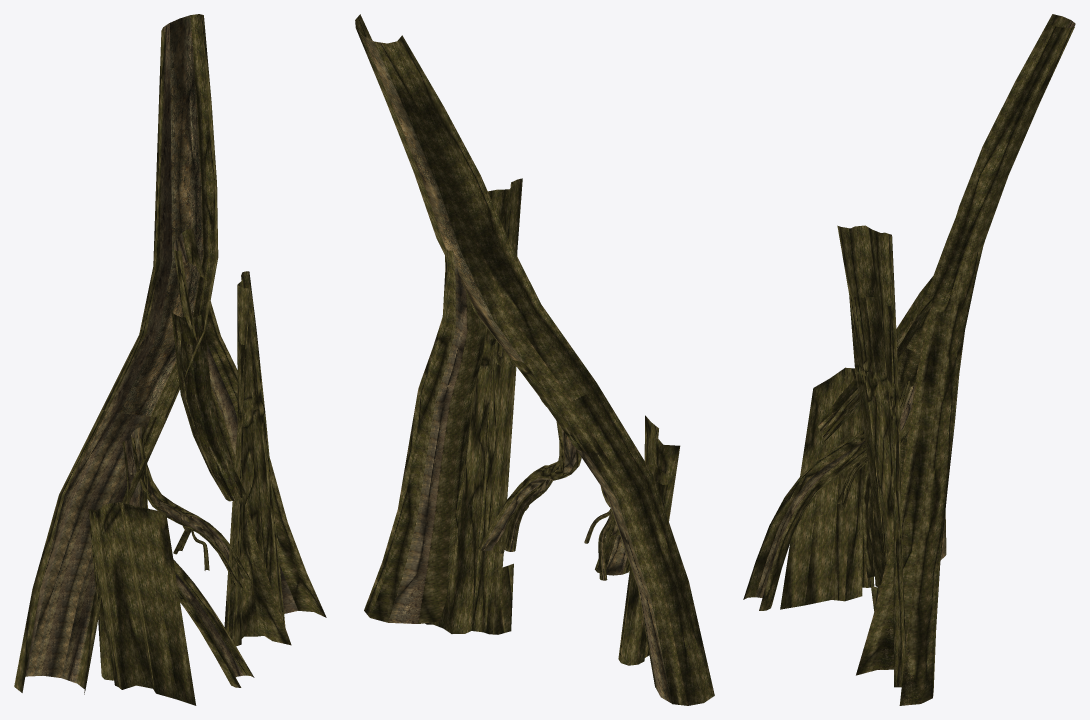
The picture shows the model from 3 angles, left to right: view 1: azimuth 30°, elevation 25°; view 2: azimuth 150°, elevation 25°; view 3: azimuth 270°, elevation 25°; orthographic projection. The views are drawn at different scales.
Visible parts, largest first — view 1: mesh1, mesh2; view 2: mesh1, mesh2; view 3: mesh1, mesh2.
Part boxes in pixels (left/top/right/bottom): mesh1: left=14, top=14, right=326, bottom=705; mesh2: left=25, top=15, right=298, bottom=683; mesh1: left=355, top=14, right=714, bottom=705; mesh2: left=357, top=29, right=671, bottom=703; mesh1: left=743, top=14, right=1075, bottom=705; mesh2: left=755, top=20, right=1074, bottom=648.
Size of the model in its own units: 74.36 by 136 by 62.44.
